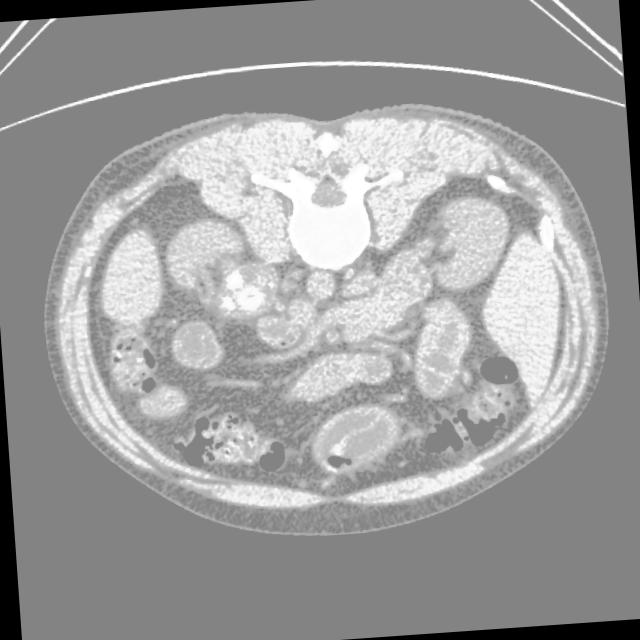STONE: (54, 240, 550, 560)
